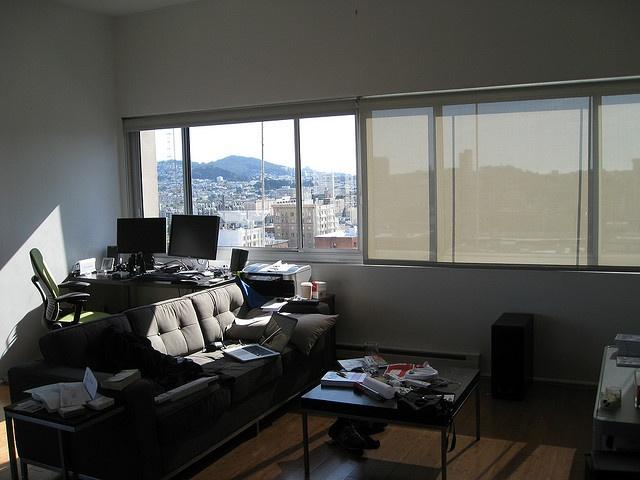AIO PC-Monitor-TV: (166, 213, 220, 274), (116, 216, 166, 254)
Kursi: (28, 247, 113, 328)
Meja: (300, 357, 481, 479)
